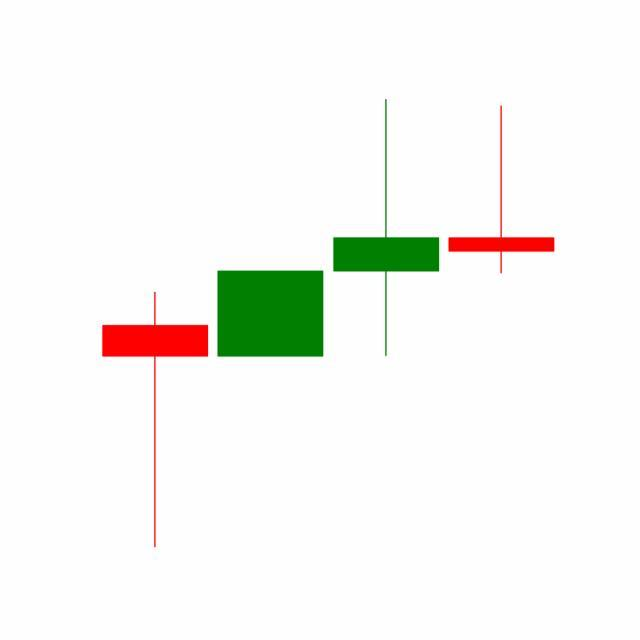Spinning Top: (444, 105, 560, 276)
